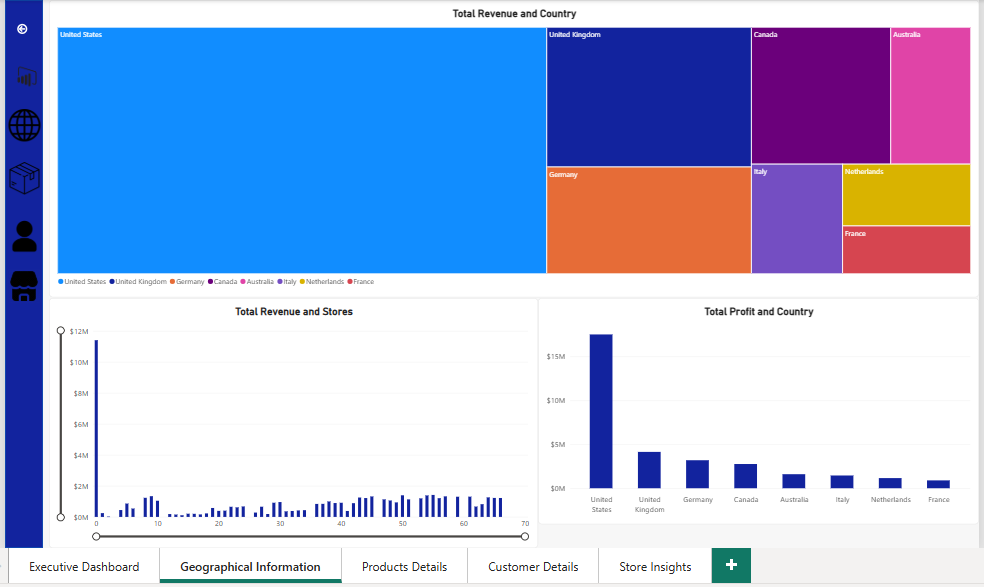

Layout of this report page (visuals, bound fields, positions):
{"tool":"powerbi","page":{"name":"Geographical Information","canvas":[1920,1080],"ordinal":1},"visuals":[{"type":"shape","box":[0,0,74.9,1080],"z":0,"group":"g1"},{"type":"treemap","title":"Total Revenue and Country","fields":{"Group":["Customers.Country"],"Values":["  Measures Table.Total Revenue"]},"box":[86.7,0,1833.3,586.3],"z":0},{"type":"group","id":"g1","title":"Group 7","box":[-0.1,0,86.7,1080],"z":1},{"type":"columnChart","title":"Total Profit and Country","fields":{"Category":["Customers.Country"],"Y":["  Measures Table.Total Profit"]},"box":[1050.8,586.3,869.2,445.9],"z":2},{"type":"columnChart","title":"Total Revenue and Store ID","fields":{"Category":["Stores.StoreID"],"Y":["  Measures Table.Total Revenue"]},"box":[86.7,586.3,964.1,493.4],"z":3},{"type":"actionButton","box":[0,0,69,114.3],"z":1000,"group":"g3"},{"type":"image","box":[-0.1,119.4,86.7,61.1],"z":1000,"group":"g2"},{"type":"image","box":[5.9,214.7,65,63.8],"z":2000,"group":"g2"},{"type":"image","box":[5.9,318.7,65,63.8],"z":3000,"group":"g2"},{"type":"image","box":[5.9,432.1,65,63.8],"z":4000,"group":"g2"},{"type":"group","id":"g2","title":"Group 4","box":[-0.1,119.4,86.7,376.5],"z":10003,"group":"g3"},{"type":"group","id":"g3","title":"Group 6","box":[-0.1,0,86.7,495.9],"z":10004,"group":"g1"}]}

Visuals, with their boxes on the page's 1920x1080 design canvas (x1, y1, x2, y2). These are canvas units, not pixel positions in the 984x587 screenshot, which may show the page scaled, cropped or inside an application window:
shape: (x1=0, y1=0, x2=75, y2=1080)
"Total Revenue and Country" treemap: (x1=87, y1=0, x2=1920, y2=586)
"Group 7" group: (x1=0, y1=0, x2=87, y2=1080)
"Total Profit and Country" columnChart: (x1=1051, y1=586, x2=1920, y2=1032)
"Total Revenue and Store ID" columnChart: (x1=87, y1=586, x2=1051, y2=1080)
actionButton: (x1=0, y1=0, x2=69, y2=114)
image: (x1=0, y1=119, x2=87, y2=180)
image: (x1=6, y1=215, x2=71, y2=278)
image: (x1=6, y1=319, x2=71, y2=382)
image: (x1=6, y1=432, x2=71, y2=496)
"Group 4" group: (x1=0, y1=119, x2=87, y2=496)
"Group 6" group: (x1=0, y1=0, x2=87, y2=496)
